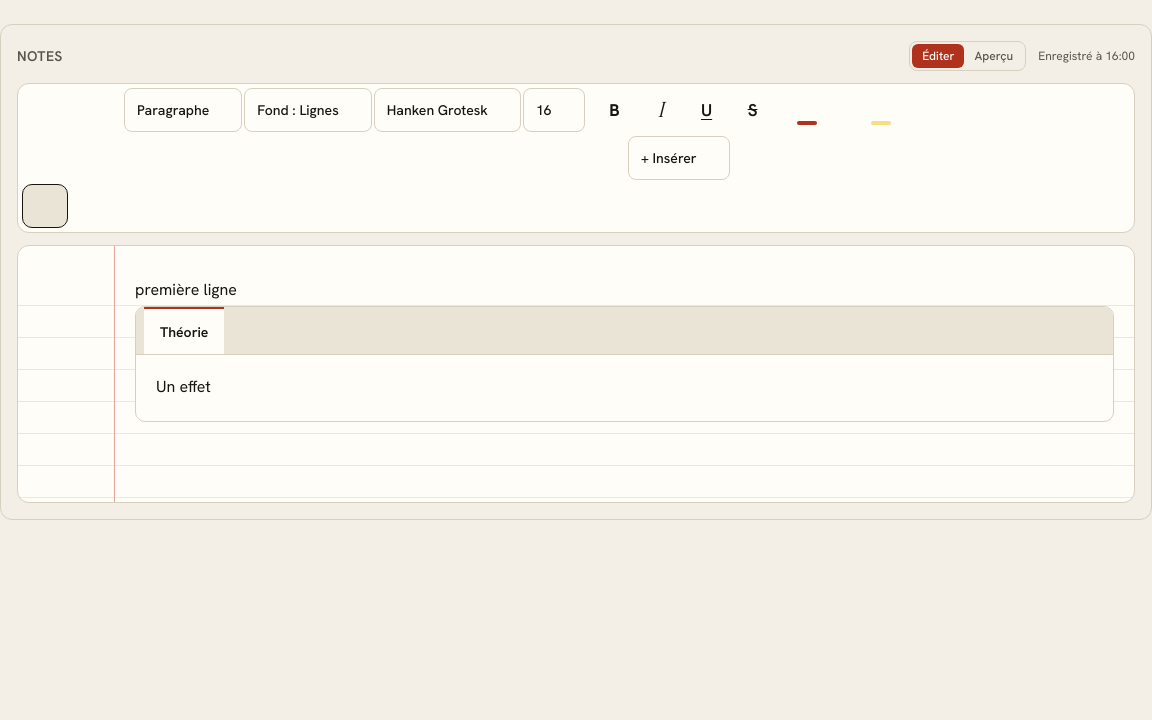
Scenario: tabs in a note (YC-52) › « + » adds a tab, in front, its name ready to be typed
expect the field named "Note de la vidéo" shows "première": met, box 135,279 -> 1114,422
Click the button named "Ajouter un onglet" at (245, 330), box 224,307 -> 266,354
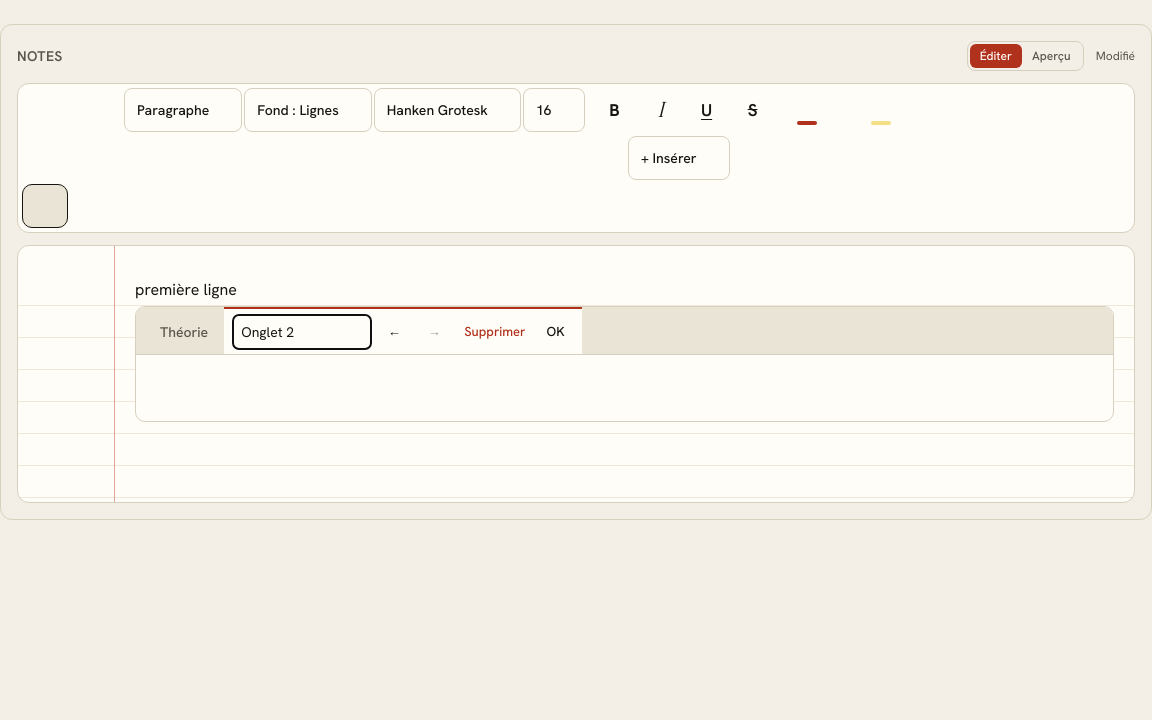
expect the tab "Théorie" is shown: met, box 144,307 -> 224,354
expect the field named "Nom de l'onglet" holds "Onglet 2": met
Replace the text in the field named "Nom de l'onglet" with "Exercices" at (302, 332), box 232,314 -> 372,350
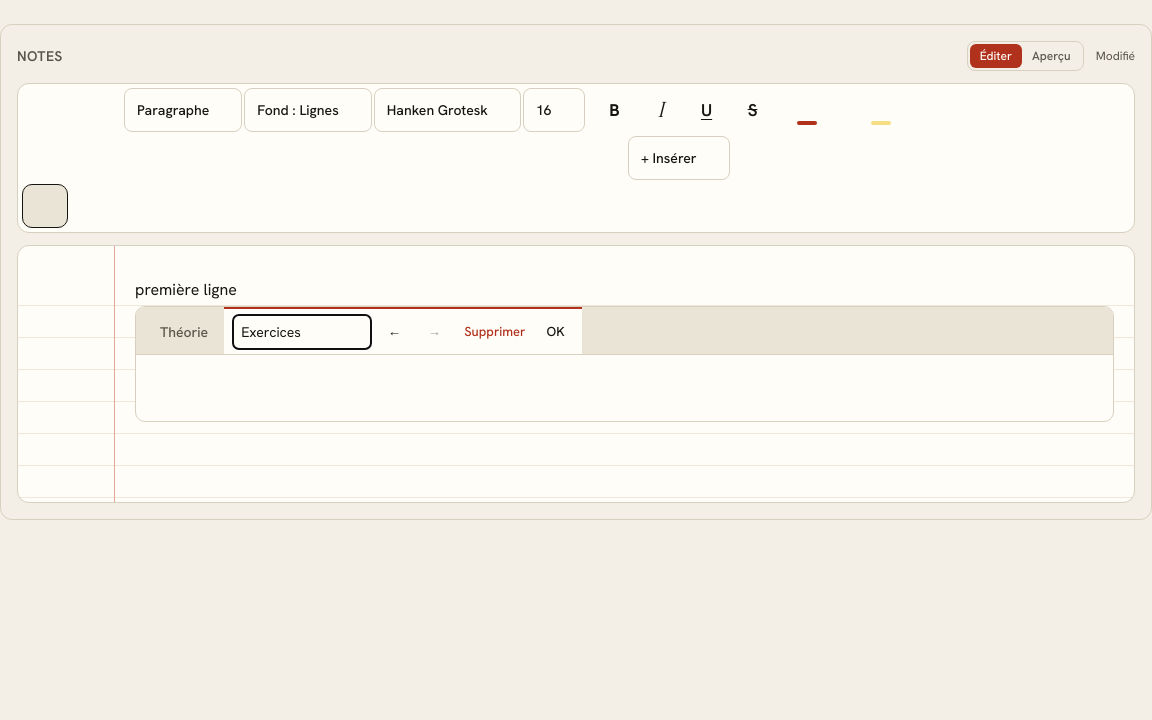
Press Enter in the field named "Nom de l'onglet", box 232,314 -> 372,350
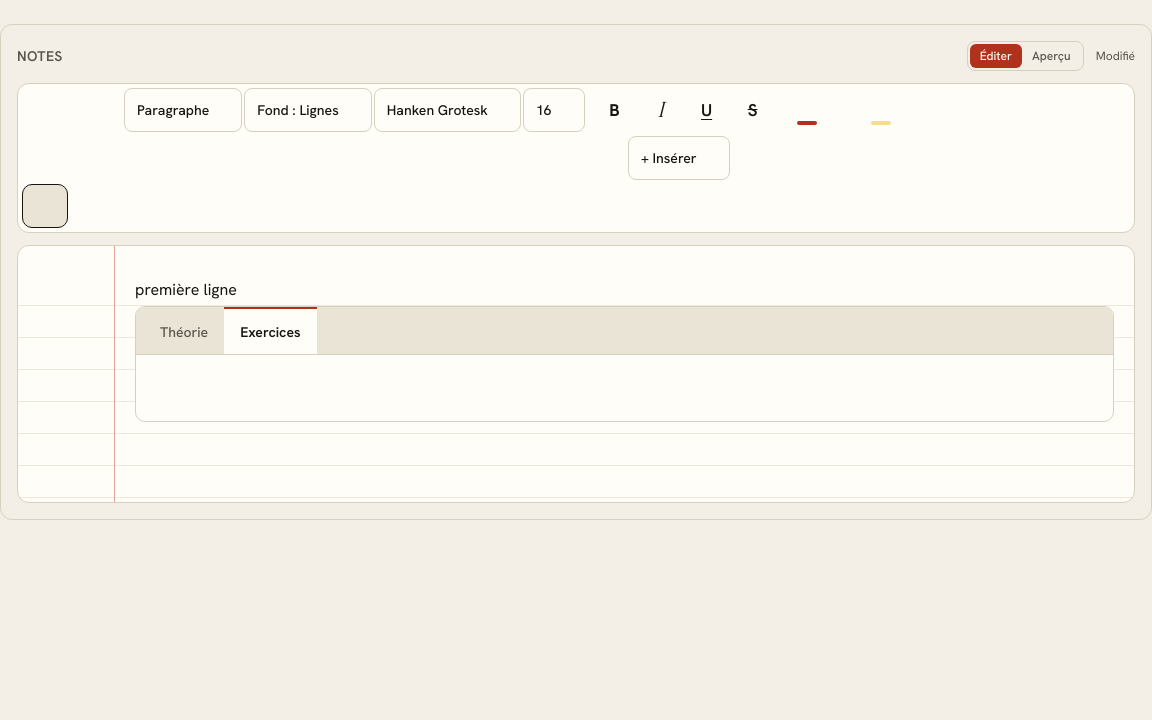
expect the tab "Exercices" is shown: met, box 224,307 -> 317,354
